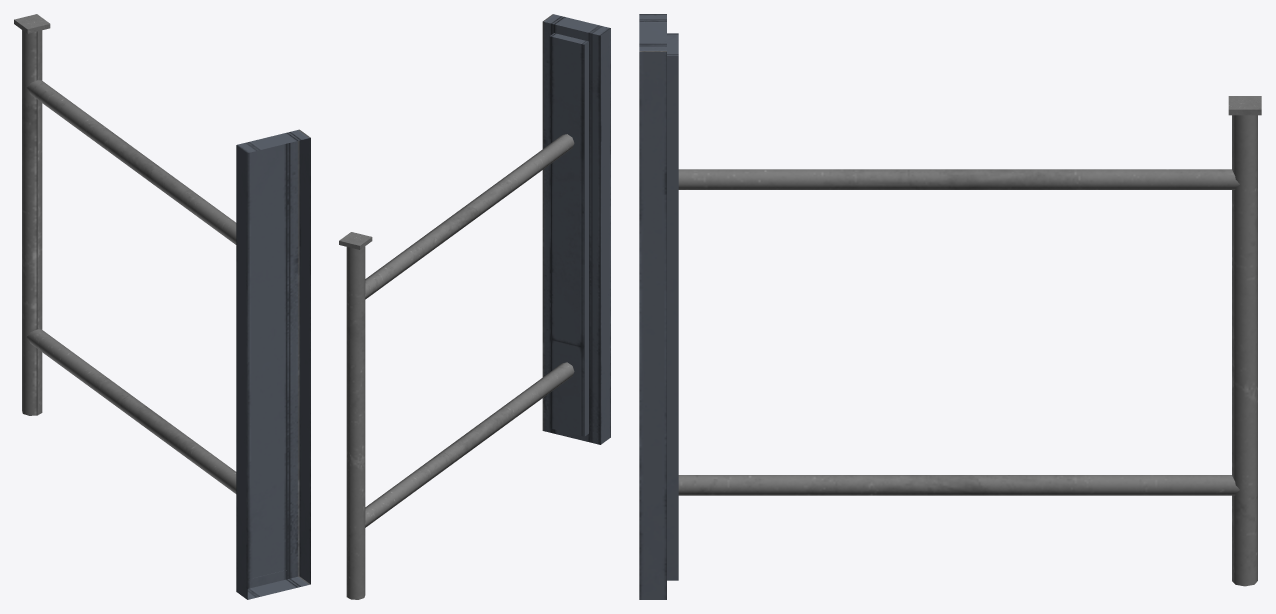
The model's file is CP_Metro_Fences.fbx.
3 views of the same model, side by side, from view 1: azimuth 30°, elevation 25°; view 2: azimuth 150°, elevation 25°; view 3: azimuth 270°, elevation 25° (orthographic). The views are drawn at different scales.
Parts seen in each view (by area): view 1: CP_Metro_Fences; view 2: CP_Metro_Fences; view 3: CP_Metro_Fences.
Boxes of the visible parts, left/top/right/bottom form: CP_Metro_Fences: left=14, top=14, right=310, bottom=599; CP_Metro_Fences: left=339, top=14, right=610, bottom=599; CP_Metro_Fences: left=639, top=14, right=1261, bottom=599.
Bounding box in the file's own units: 20.85 × 140 × 145.
